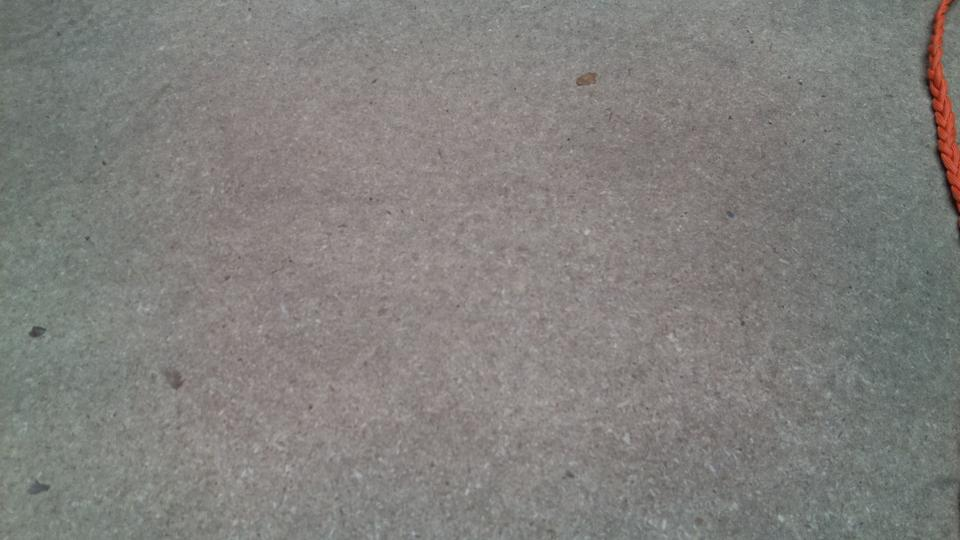rope: (920, 1, 960, 226)
